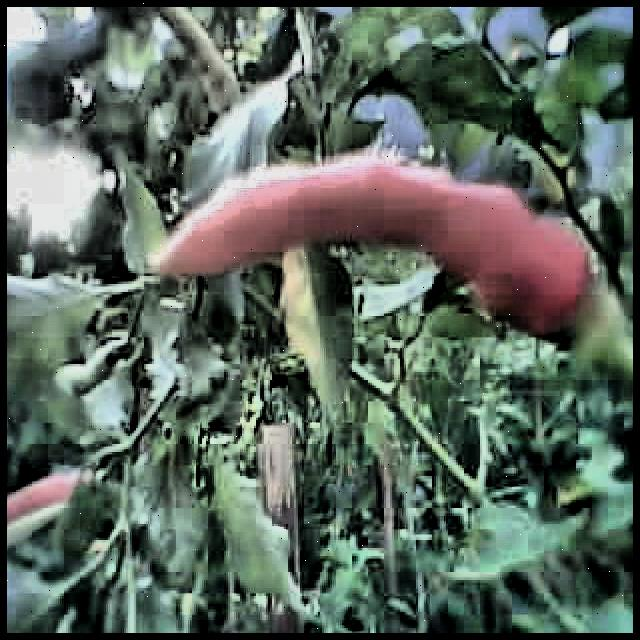Cabai: (164, 157, 624, 293)
